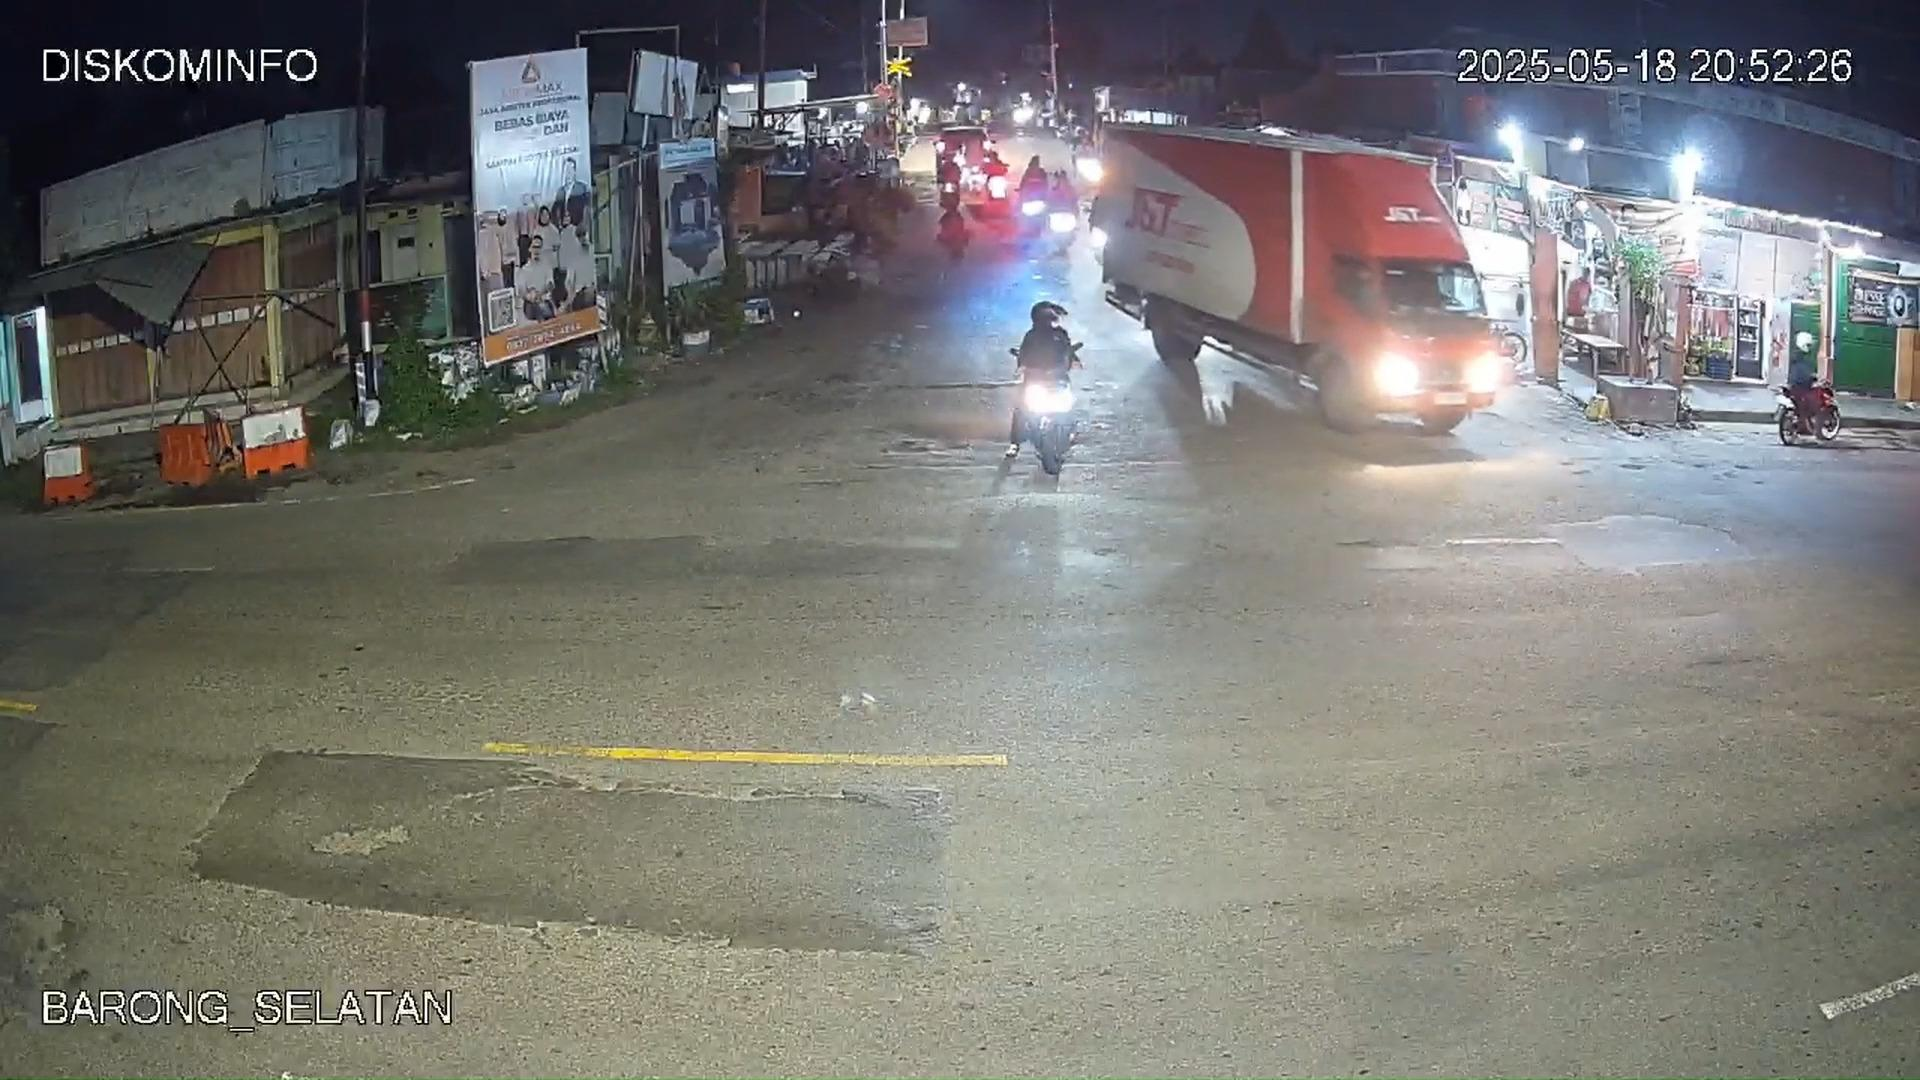Motor: (994, 298, 1081, 473), (1778, 342, 1840, 442)
Truck: (1120, 115, 1484, 440)
